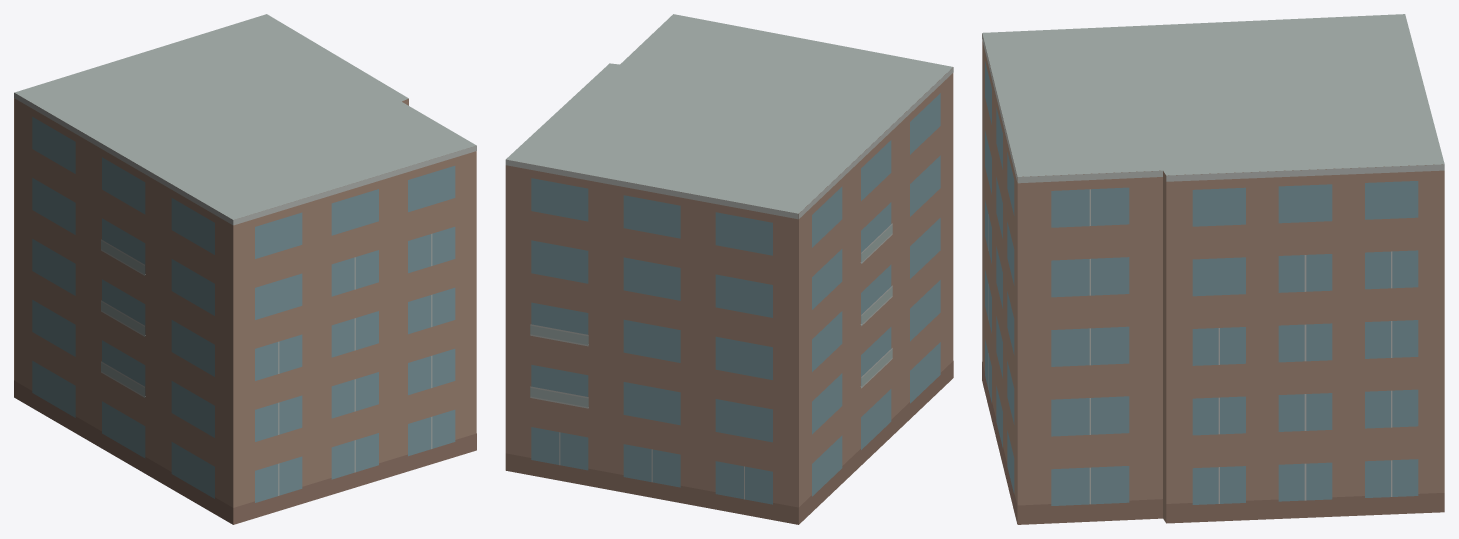
File: survey-upis-32653066.glb
The picture shows the model from 3 angles, left to right: view 1: azimuth 30°, elevation 25°; view 2: azimuth 150°, elevation 25°; view 3: azimuth 270°, elevation 25°; orthographic projection. The views are drawn at different scales.
Parts seen in each view (by area): view 1: survey-upis-32653066.tmp; view 2: survey-upis-32653066.tmp; view 3: survey-upis-32653066.tmp.
Boxes of the visible parts, box(x1,y1,x2,y2) form: survey-upis-32653066.tmp: box(14, 14, 476, 524); survey-upis-32653066.tmp: box(505, 14, 953, 524); survey-upis-32653066.tmp: box(982, 14, 1444, 524).
Bounding box in the file's own units: 13.57 × 13.5 × 16.28.
